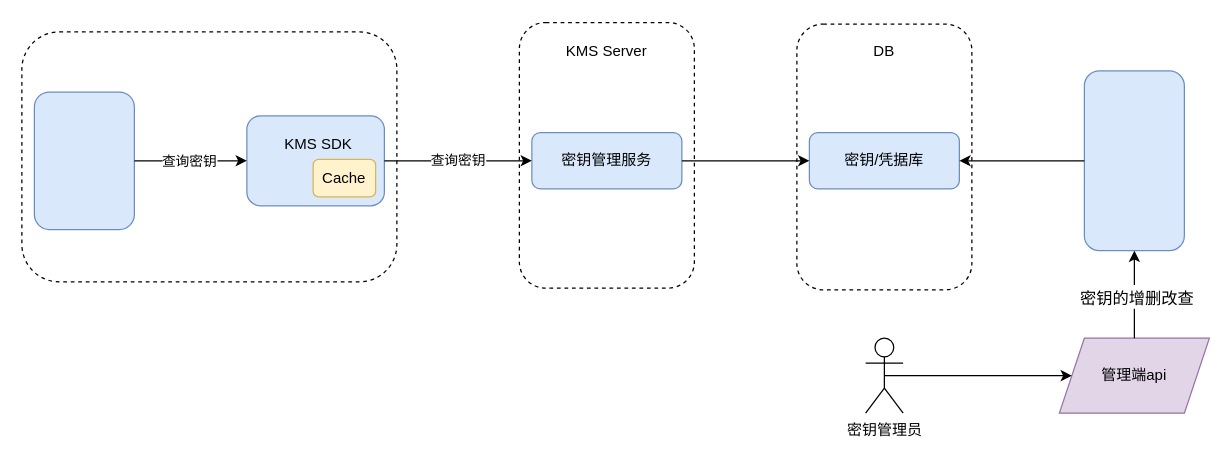
Image size: 1231x460. Some labels were removed from this diagram. The shapes that lost their labels are listed below. From the top down, each one's box as (x1, y1, x2, y2) in pixels, then its label:
(33, 91, 134, 230): 业务代码
(1083, 70, 1184, 251): KMS Web 模块
